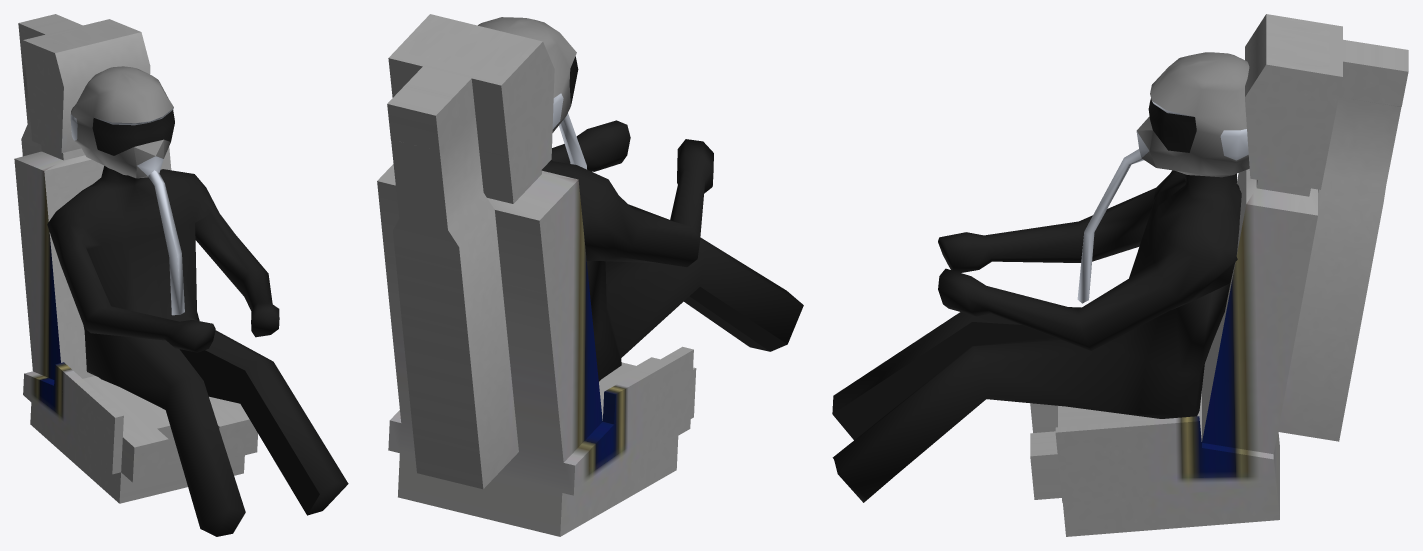
The model's file is PilotInSeat.fbx.
3 renders of one model, left to right at view 1: azimuth 30°, elevation 25°; view 2: azimuth 150°, elevation 25°; view 3: azimuth 270°, elevation 25°, orthographic. The views are drawn at different scales.
Parts seen in each view (by area): view 1: pilots.002, SeatFront; view 2: SeatFront, pilots.002; view 3: SeatFront, pilots.002.
Part boxes in pixels (x1=…): pilots.002: x1=47, y1=66, x2=348, y2=536; SeatFront: x1=14, y1=14, x2=257, y2=503; SeatFront: x1=377, y1=14, x2=696, y2=536; pilots.002: x1=478, y1=17, x2=803, y2=381; SeatFront: x1=1030, y1=14, x2=1408, y2=536; pilots.002: x1=832, y1=52, x2=1249, y2=502.
Size of the model in its own units: 62.31 by 126 by 142.
